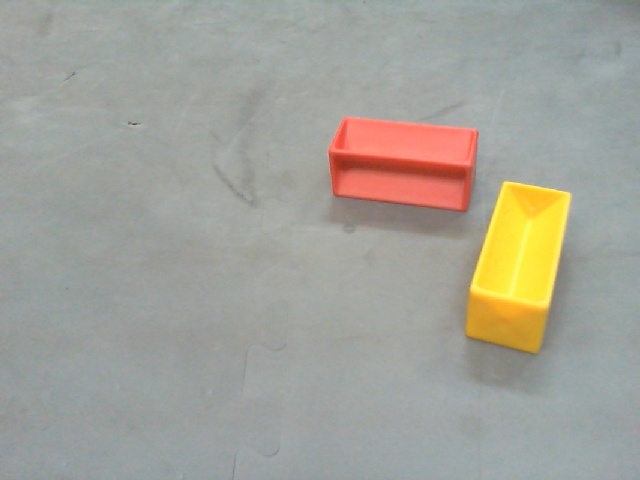RedSample: (329, 115, 479, 213)
YellowSample: (464, 182, 570, 352)
